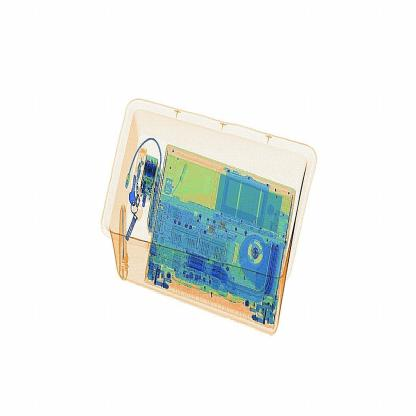pliers: (120, 202, 130, 288)
